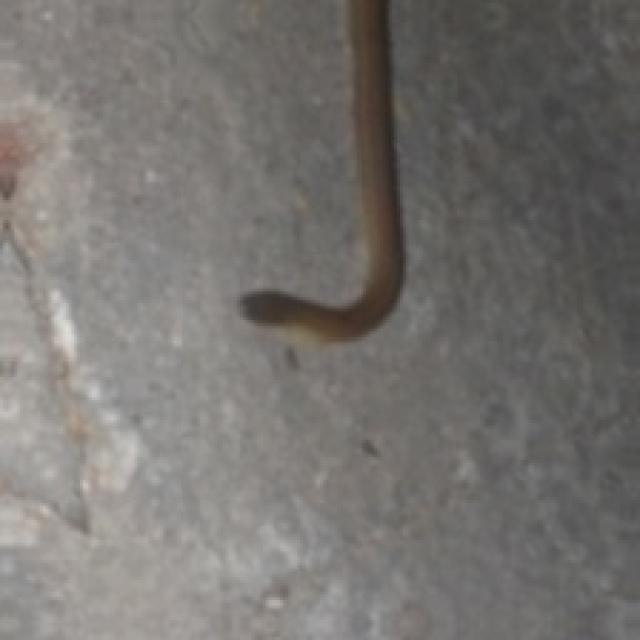gervais worm snake: (240, 0, 403, 337)
